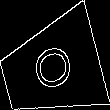O_W: (26, 41, 77, 97)
